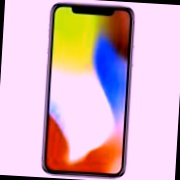iphone: (44, 3, 133, 178)
